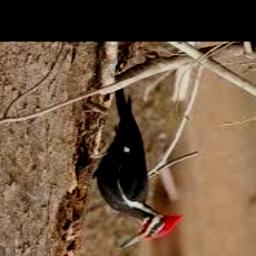Woodpecker: (94, 87, 184, 249)
